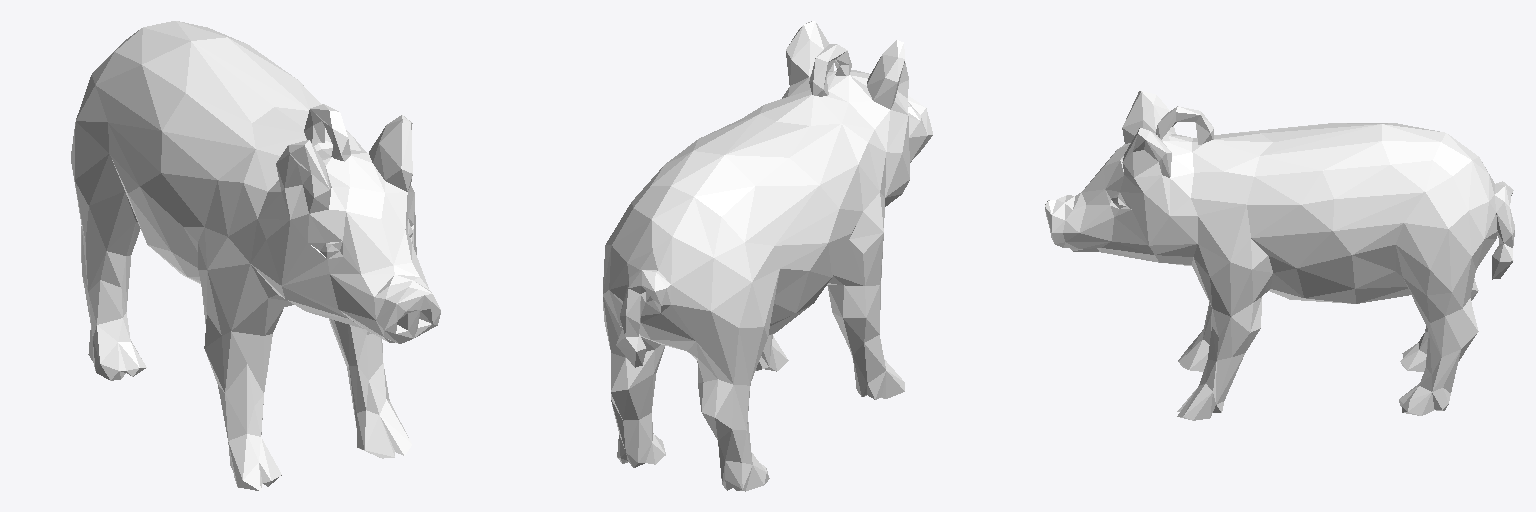
robot.urdf — simple_pig5.obj:
<robot name="simple_pig5.obj">
	<link name="_name">
		<visual>
			<origin xyz="0 0 0" rpy="0 0 0" />
			<geometry>
				<mesh filename="simple_pig5.obj" scale="1.0 1.0 1.0" />
			</geometry>
			<material name="texture">
				<color rgba="1.0 1.0 1.0 1.0" />
			</material>
		</visual>
		<collision>
			<geometry>
				<mesh filename="simple_pig5_vhacd.obj" scale="1.0 1.0 1.0" />
			</geometry>
		</collision>
		<inertial>
			<mass value="1.0" />
			<inertia ixx="1.0" ixy="0.0" ixz="0.0" iyy="1.0" iyz="0.0" izz="1.0" />
		</inertial>
	</link>
</robot>

--- What the picture shows (computed from the rendered views, not written in the file) ---
The picture shows the robot from 3 angles, left to right: view 1: azimuth 30°, elevation 25°; view 2: azimuth 150°, elevation 25°; view 3: azimuth 270°, elevation 25°; orthographic projection.
Robot: simple_pig5.obj — 1 links, 0 joints (none); root link _name; default pose: all joints at 0.
Visible links, largest first — view 1: _name; view 2: _name; view 3: _name.
Link boxes in pixels (x1=…): _name: x1=71, y1=21, x2=440, y2=490; _name: x1=603, y1=21, x2=932, y2=491; _name: x1=1045, y1=91, x2=1514, y2=420.
Size in the robot's own frame: 2.44 by 6.96 by 4.61 metres.
1 mesh visuals loaded from 1 distinct referenced files (1 OBJ).